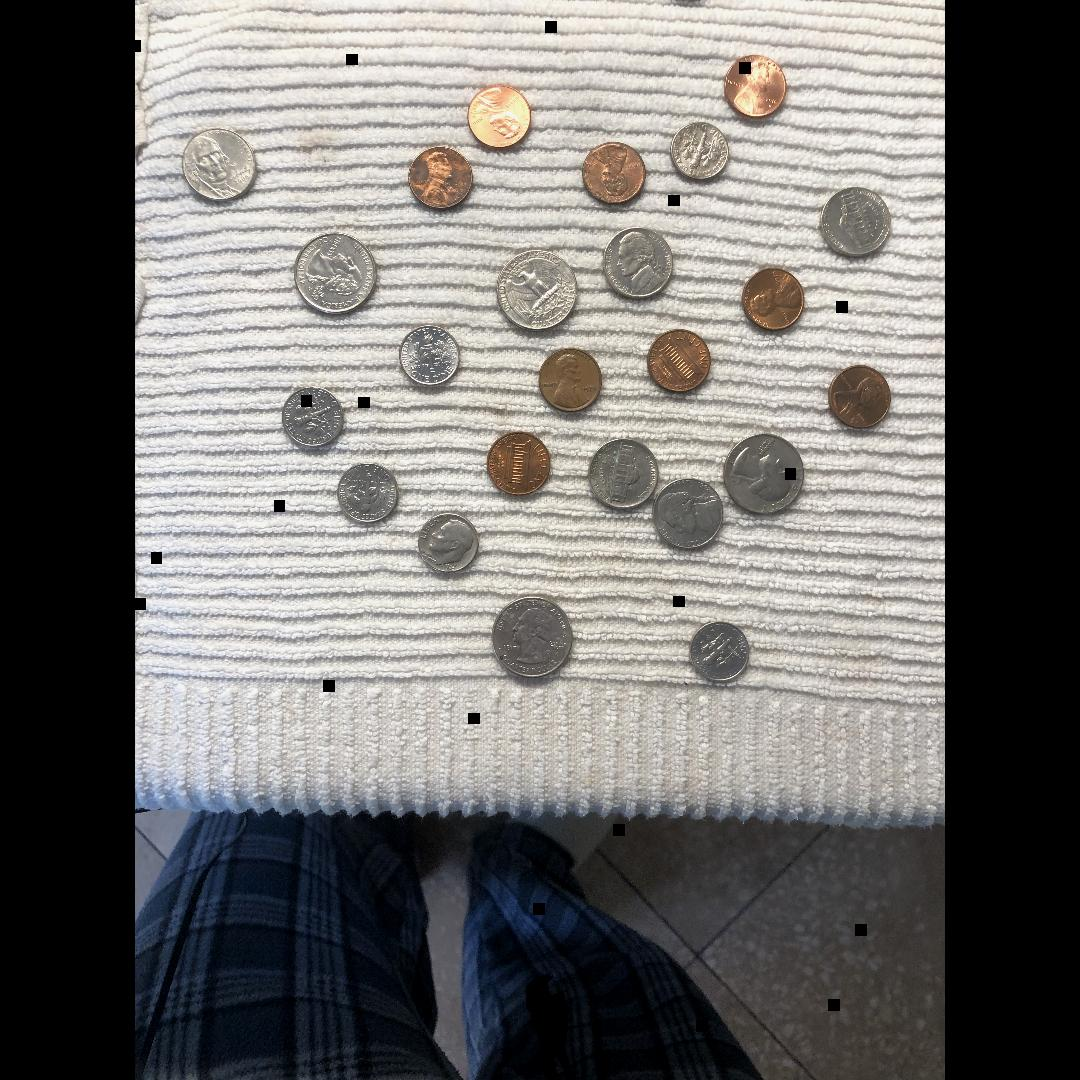Dime: (282, 384, 346, 452), (416, 510, 480, 576), (398, 325, 459, 391), (690, 621, 752, 685), (340, 460, 398, 526), (670, 121, 730, 184)
Nickel: (176, 125, 260, 208), (816, 186, 892, 260), (603, 226, 676, 300), (586, 438, 660, 510), (657, 480, 721, 552)
Penny: (824, 362, 896, 436), (643, 324, 715, 398), (407, 140, 477, 215), (466, 81, 536, 153), (738, 263, 806, 337), (579, 140, 649, 210), (537, 344, 605, 416), (486, 430, 552, 501), (722, 52, 788, 118)
Quarter: (497, 247, 578, 335), (294, 233, 378, 317), (722, 434, 806, 518), (495, 597, 577, 681)
